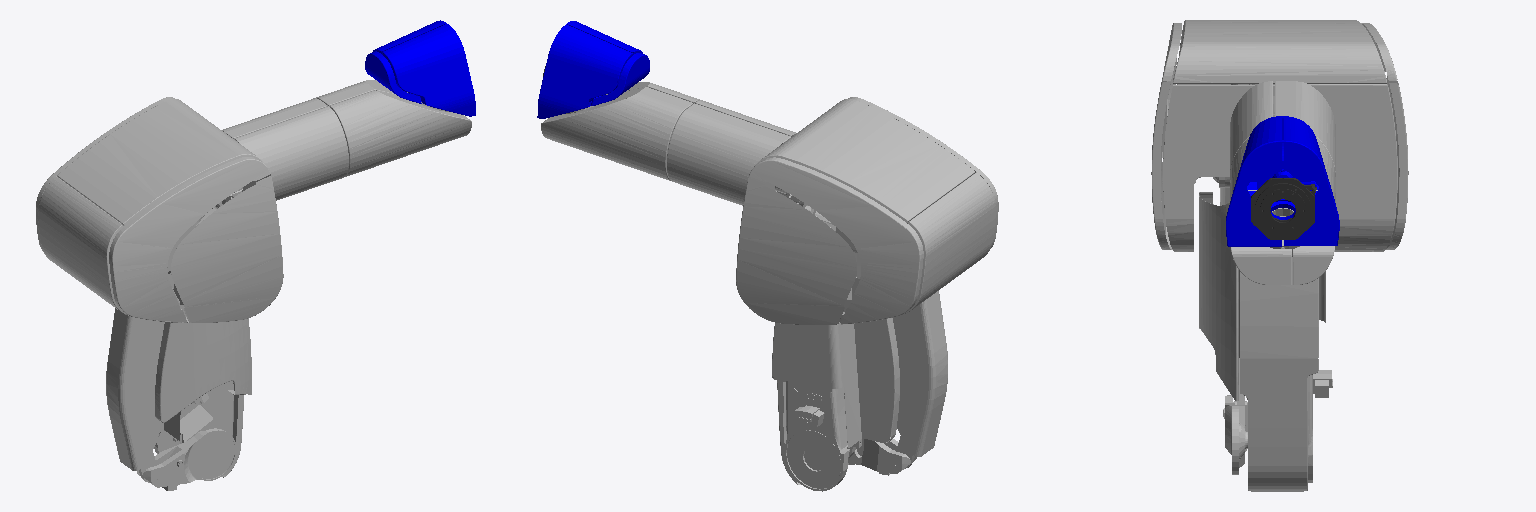
The robot description file, URDF, robot "aura":
<?xml version="1.0"?>
<!-- Static URDF prepared from the upstream model; mesh and texture references use local relative paths. -->
<robot name="aura">
  <link name="base_link">
    <inertial>
      <origin rpy="0 0 0" xyz="0.0190768727000594 -0.00273219739469353 0.224558520234347" />
      <mass value="6.14304391869703" />
      <inertia ixx="28.5802635516256" ixy="0.00727927797804216" ixz="0.299680358784856" iyy="31.073773310292" iyz="0.0069437441373793" izz="56.3330921844227" />
    </inertial>
    <visual>
      <origin rpy="0 0 0" xyz="0 0 0" />
      <geometry>
        <mesh filename="resources/aura_description/meshes/aura/viz/base_link.STL" />
      </geometry>
      <material name="comau_dark_grey">
        <color rgba="0.25098 0.25098 0.25098 1" />
      </material>
    </visual>
    <collision>
      <surface>
        <contact>
          <collide_bitmask>0x01</collide_bitmask>
        </contact>
      </surface>
      <origin rpy="0 0 0" xyz="0 0 0" />
      <geometry>
        <mesh filename="resources/aura_description/meshes/aura/col/base_link.STL" />
      </geometry>
    </collision>
  </link>
  <link name="link_1">
    <inertial>
      <origin rpy="0 0 0" xyz="0.266373725873378 0.00385598734773701 0.381638394835449" />
      <mass value="8.48522894701881" />
      <inertia ixx="49.3087902451513" ixy="0.86766706218942" ixz="-11.6355039302912" iyy="47.6784496847126" iyz="0.356500383449339" izz="50.5565394772442" />
    </inertial>
    <visual>
      <origin rpy="0 0 0" xyz="0 0 0" />
      <geometry>
        <mesh filename="resources/aura_description/meshes/aura/viz/Axis-1.STL" />
      </geometry>
      <material name="comau_blue">
        <color rgba="0 0 1 1" />
      </material>
    </visual>
    <collision>
      <origin rpy="0 0 0" xyz="0 0 0" />
      <surface>
        <contact>
          <collide_bitmask>0x10</collide_bitmask>
        </contact>
      </surface>
      <geometry>
        <mesh filename="resources/aura_description/meshes/aura/col/Axis-1.STL" />
      </geometry>
    </collision>
  </link>
  <link name="link_2">
    <inertial>
      <origin rpy="0 0 0" xyz="-0.130676544255706 -0.0799633110698596 0.420177344523501" />
      <mass value="2.3912568240151404" />
      <inertia ixx="29.0000847886552" ixy="-0.0137913581559178" ixz="-0.38050514193246" iyy="29.5862783708273" iyz="0.448920656507232" izz="3.35361301596861" />
    </inertial>
    <visual>
      <origin rpy="0 0 0" xyz="0 0 0" />
      <geometry>
        <mesh filename="resources/aura_description/meshes/aura/viz/Axis-2.STL" />
      </geometry>
      <material name="comau_grey">
        <color rgba="0.752941176470588 0.752941176470588 0.752941176470588 1" />
      </material>
    </visual>
    <collision>
      <origin rpy="0 0 0" xyz="0 0 0" />
      <surface>
        <contact>
          <collide_bitmask>0x01</collide_bitmask>
        </contact>
      </surface>
      <geometry>
        <mesh filename="resources/aura_description/meshes/aura/col/Axis-2.STL" />
      </geometry>
    </collision>
  </link>
  <link name="link_3">
    <inertial>
      <origin rpy="0 0 0" xyz="-0.0729518648260472 0.0292430153422261 0.190940156994843" />
      <mass value="3.11238256143032" />
      <inertia ixx="11.54793486791" ixy="0.0389853984707502" ixz="-0.961629773567723" iyy="8.37635262458699" iyz="-0.92294880100034" izz="9.81126840885521" />
    </inertial>
    <visual>
      <origin rpy="0 0 0" xyz="0 0 0" />
      <geometry>
        <mesh filename="resources/aura_description/meshes/aura/viz/Axis-3.STL" />
      </geometry>
      <material name="comau_grey">
        <color rgba="0.752941176470588 0.752941176470588 0.752941176470588 1" />
      </material>
    </visual>
    <collision>
      <origin rpy="0 0 0" xyz="0 0 0" />
      <surface>
        <contact>
          <collide_bitmask>0x01</collide_bitmask>
        </contact>
      </surface>
      <geometry>
        <mesh filename="resources/aura_description/meshes/aura/col/Axis-3.STL" />
      </geometry>
    </collision>
  </link>
  <link name="link_3_virtual">
    <inertial>
      <origin rpy="0 0 0" xyz="0 0 0" />
      <mass value="0.001" />
      <inertia ixx="0.0001" ixy="0" ixz="0" iyy="0.0001" iyz="0" izz="0.0001" />
    </inertial>
  </link>
  <link name="link_4">
    <inertial>
      <origin rpy="0 0 0" xyz="0.812887178114926 0.000362663375719755 -0.00614579685957262" />
      <mass value="1.36485755345134" />
      <inertia ixx="1.44924828438087" ixy="-0.0010420322322568" ixz="0.182154802830561" iyy="23.7605547929294" iyz="0.0398572873015" izz="23.7018207836833" />
    </inertial>
    <visual>
      <origin rpy="0 0 0" xyz="0 0 0" />
      <geometry>
        <mesh filename="resources/aura_description/meshes/aura/viz/Axis-4.STL" />
      </geometry>
      <material name="comau_grey">
        <color rgba="0.752941176470588 0.752941176470588 0.752941176470588 1" />
      </material>
    </visual>
    <collision>
      <origin rpy="0 0 0" xyz="0 0 0" />
      <surface>
        <contact>
          <collide_bitmask>0x01</collide_bitmask>
        </contact>
      </surface>
      <geometry>
        <mesh filename="resources/aura_description/meshes/aura/col/Axis-4.STL" />
      </geometry>
    </collision>
  </link>
  <link name="link_5">
    <inertial>
      <origin rpy="0 0 0" xyz="0.0568185601062883 0.000539823436256374 0.13348534058869" />
      <mass value="0.38646734146078504" />
      <inertia ixx="0.470449491695078" ixy="-0.000517824470923669" ixz="0.0313276463840993" iyy="0.615934928772394" iyz="-0.000786523511302322" izz="0.418403890019268" />
    </inertial>
    <visual>
      <origin rpy="0 0 0" xyz="0 0 0" />
      <geometry>
        <mesh filename="resources/aura_description/meshes/aura/viz/Axis-5.STL" />
      </geometry>
      <material name="comau_blue">
        <color rgba="0 0 1 1" />
      </material>
    </visual>
    <collision>
      <origin rpy="0 0 0" xyz="0 0 0" />
      <surface>
        <contact>
          <collide_bitmask>0x10</collide_bitmask>
        </contact>
      </surface>
      <geometry>
        <mesh filename="resources/aura_description/meshes/aura/col/Axis-5.STL" />
      </geometry>
    </collision>
  </link>
  <link name="link_6">
    <inertial>
      <origin rpy="0 0 0" xyz="0.0242228852262389 0.00139203375363176 0.000729669966204494" />
      <mass value="0.079221411142153" />
      <inertia ixx="0.0703548868386956" ixy="0.000116981956754875" ixz="9.17709285092661E-05" iyy="0.0355404313512897" iyz="-0.000841076901867076" izz="0.0361480651851593" />
    </inertial>
    <visual>
      <origin rpy="0 0 0" xyz="0 0 0" />
      <geometry>
        <mesh filename="resources/aura_description/meshes/aura/viz/Axis-6.STL" />
      </geometry>
      <material name="comau_dark_grey">
        <color rgba="0.25098 0.25098 0.25098 1" />
      </material>
    </visual>
    <collision>
      <origin rpy="0 0 0" xyz="0 0 0" />
      <surface>
        <contact>
          <collide_bitmask>0x01</collide_bitmask>
        </contact>
      </surface>
      <geometry>
        <mesh filename="resources/aura_description/meshes/aura/col/Axis-6.STL" />
      </geometry>
    </collision>
  </link>
  <link name="ee_link" />
  <joint name="joint_1" type="revolute">
    <origin rpy="0 0 0" xyz="0 0 0.466" />
    <parent link="base_link" />
    <child link="link_1" />
    <axis xyz="0 0 -1" />
    <limit effort="6300.0" lower="-3.14" upper="3.14" velocity="2.0" />
  </joint>
  <joint name="joint_2" type="revolute">
    <origin rpy="0 0 0" xyz="0.4 0 0.504" />
    <parent link="link_1" />
    <child link="link_2" />
    <axis xyz="0 1 0" />
    <limit effort="3300.0" lower="-0.34" upper="1.48" velocity="2.0" />
  </joint>
  <joint name="joint_2m" type="fixed">
    <origin rpy="0 -1.5707963267948966 0" xyz="0 0 1.175" />
    <parent link="link_2" />
    <child link="link_3_virtual" />
  </joint>
  <joint name="joint_3" type="revolute">
    <origin rpy="0 0 0" xyz="0 0 0" />
    <parent link="link_3_virtual" />
    <child link="link_3" />
    <axis xyz="0 -1 0" />
    <limit effort="1000.0" lower="-2.2607" upper="-0.69079" velocity="2.0" />
  </joint>
  <joint name="joint_4" type="revolute">
    <origin rpy="0 0 0" xyz="0.105 0 0.249999999999999" />
    <parent link="link_3" />
    <child link="link_4" />
    <axis xyz="-1 0 0" />
    <limit effort="60.0" lower="-3.14" upper="3.14" velocity="2.0" />
  </joint>
  <joint name="joint_5" type="revolute">
    <origin rpy="0 0 0" xyz="1.279 0 0.029358" />
    <parent link="link_4" />
    <child link="link_5" />
    <axis xyz="0.5 0 0.86603" />
    <limit effort="60.0" lower="-3.14" upper="3.14" velocity="2.0" />
  </joint>
  <joint name="joint_6" type="revolute">
    <origin rpy="0 0 0" xyz="0.16105 0 0.10055" />
    <parent link="link_5" />
    <child link="link_6" />
    <axis xyz="-1 0 0" />
    <limit effort="60.0" lower="-3.49" upper="3.49" velocity="2.0" />
  </joint>
  <joint name="fixed_ee_joint" type="fixed">
    <origin rpy="0 1.5707963267948966 0" xyz="0.0 0 0.0" />
    <parent link="link_6" />
    <child link="ee_link" />
    <axis xyz="0 0 0" />
  </joint>
  <ros2_control name="aura" type="system">
    <hardware>
      <plugin>comau_hardware_interface/ComauHardwareInterface</plugin>
    </hardware>
    <joint name="joint_1">
      <command_interface name="position">
        <param name="min">{-2*pi}</param>
        <param name="max">{2*pi}</param>
      </command_interface>
      <command_interface name="velocity">
        <param name="min">-3.15</param>
        <param name="max">3.15</param>
      </command_interface>
      <state_interface name="position">
        <param name="initial_value">0.0</param>
      </state_interface>
      <state_interface name="velocity" />
    </joint>
    <joint name="joint_2">
      <command_interface name="position">
        <param name="min">{-2*pi}</param>
        <param name="max">{2*pi}</param>
      </command_interface>
      <command_interface name="velocity">
        <param name="min">-3.15</param>
        <param name="max">3.15</param>
      </command_interface>
      <state_interface name="position">
        <param name="initial_value">0.0</param>
      </state_interface>
      <state_interface name="velocity" />
    </joint>
    <joint name="joint_3">
      <command_interface name="position">
        <param name="min">{-pi}</param>
        <param name="max">{pi}</param>
      </command_interface>
      <command_interface name="velocity">
        <param name="min">-3.15</param>
        <param name="max">3.15</param>
      </command_interface>
      <state_interface name="position">
        <param name="initial_value">0.0</param>
      </state_interface>
      <state_interface name="velocity" />
    </joint>
    <joint name="joint_4">
      <command_interface name="position">
        <param name="min">{-2*pi}</param>
        <param name="max">{2*pi}</param>
      </command_interface>
      <command_interface name="velocity">
        <param name="min">-3.2</param>
        <param name="max">3.2</param>
      </command_interface>
      <state_interface name="position">
        <param name="initial_value">0.0</param>
      </state_interface>
      <state_interface name="velocity" />
    </joint>
    <joint name="joint_5">
      <command_interface name="position">
        <param name="min">{-2*pi}</param>
        <param name="max">{2*pi}</param>
      </command_interface>
      <command_interface name="velocity">
        <param name="min">-3.2</param>
        <param name="max">3.2</param>
      </command_interface>
      <state_interface name="position">
        <param name="initial_value">0.0</param>
      </state_interface>
      <state_interface name="velocity" />
    </joint>
    <joint name="joint_6">
      <command_interface name="position">
        <param name="min">{-2*pi}</param>
        <param name="max">{2*pi}</param>
      </command_interface>
      <command_interface name="velocity">
        <param name="min">-3.2</param>
        <param name="max">3.2</param>
      </command_interface>
      <state_interface name="position">
        <param name="initial_value">0.0</param>
      </state_interface>
      <state_interface name="velocity" />
    </joint>
  </ros2_control>
</robot>

--- Render facts (derived) ---
The picture shows the robot from 3 angles, left to right: view 1: azimuth 30°, elevation 25°; view 2: azimuth 150°, elevation 25°; view 3: azimuth 270°, elevation 25°; orthographic projection.
Model aura with 9 links and 8 joints (6 revolute, 2 fixed), rooted at base_link, posed joints at zero except 1 at the middle of their limits (joint_3 = -1.48).
Visible links, largest first — view 1: link_3, link_2, link_4, link_5; view 2: link_3, link_2, link_4, link_5; view 3: link_3, link_2, link_4, link_5, link_6.
Boxes of the visible links, x1,y1,x2,y2 form: link_3: (36, 97, 283, 322); link_2: (106, 271, 251, 490); link_4: (222, 80, 471, 204); link_5: (365, 20, 475, 116); link_3: (736, 97, 998, 324); link_2: (772, 252, 947, 491); link_4: (541, 82, 796, 205); link_5: (537, 21, 649, 118); link_3: (1151, 20, 1408, 251); link_2: (1199, 188, 1332, 491); link_4: (1230, 81, 1335, 284); link_5: (1226, 116, 1339, 246); link_6: (1251, 178, 1316, 239).
Bounding box of the posed robot: 2.28 × 1 × 2.14 m (x, y, z).
Meshes: 7 distinct files referenced, 5 mesh visuals loaded (5 binary STL); not drawn: 2 (reference not matched to a file when rendering).
